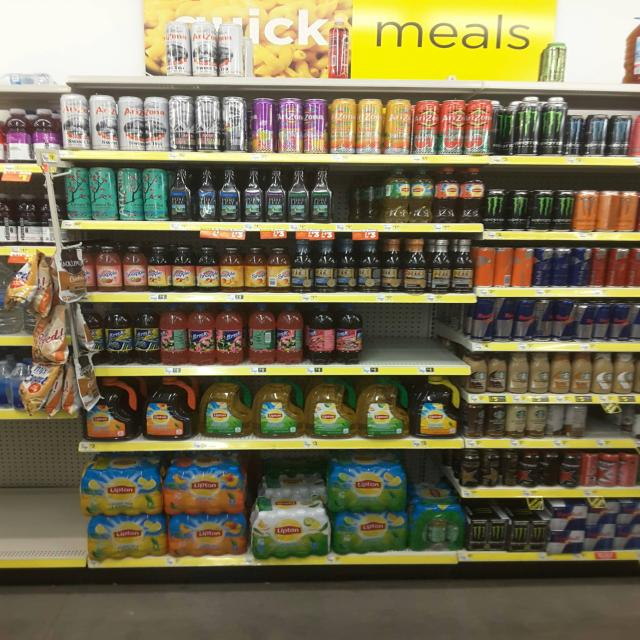void: (46, 433, 91, 570), (0, 449, 41, 574), (114, 4, 163, 87), (392, 5, 432, 94), (515, 9, 557, 89), (473, 7, 512, 93), (298, 6, 339, 87), (250, 14, 295, 87), (574, 26, 622, 93), (411, 309, 456, 380), (72, 10, 110, 90), (356, 7, 388, 95), (366, 304, 403, 375), (439, 10, 469, 93), (598, 408, 640, 448)
